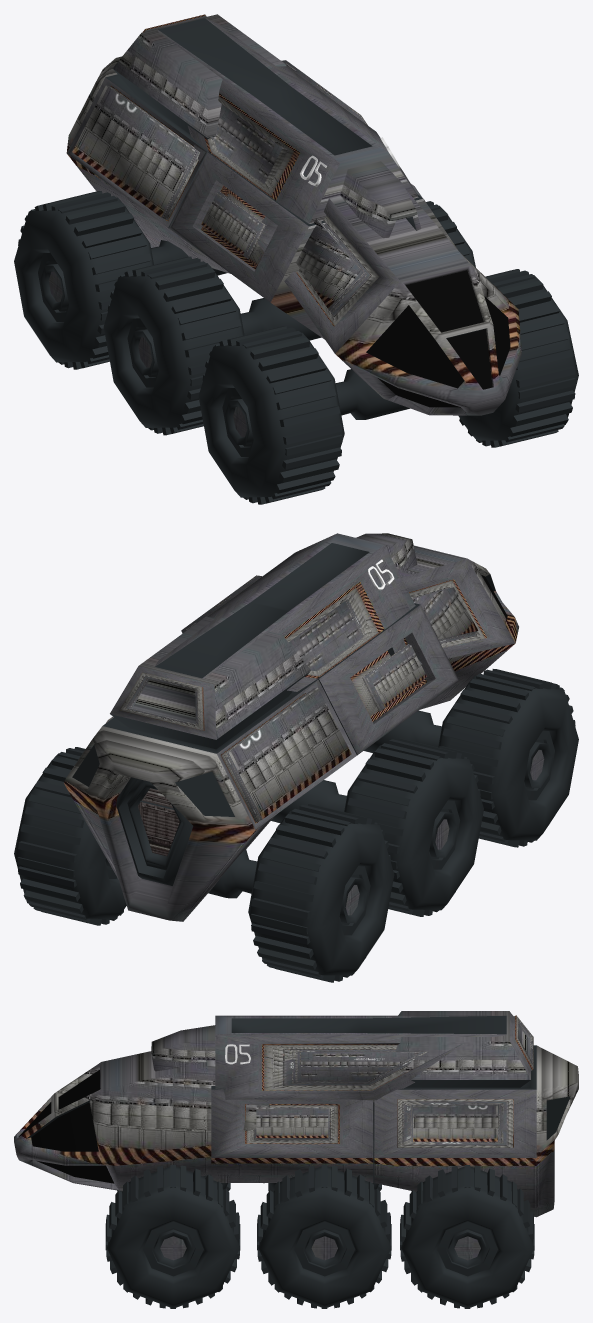
The model's file is Mars_Explorer.obj.
3 renders of one model, top to bottom at view 1: azimuth 30°, elevation 25°; view 2: azimuth 150°, elevation 25°; view 3: azimuth 270°, elevation 25°, orthographic. The views are drawn at different scales.
Parts seen in each view (by area): view 1: land vehicle2; view 2: land vehicle2; view 3: land vehicle2.
Part boxes in pixels (x1,y1,x2,y2): land vehicle2: [14, 14, 578, 504]; land vehicle2: [14, 533, 578, 982]; land vehicle2: [14, 1011, 578, 1308].
Size of the model in its own units: 126 by 109 by 245.
